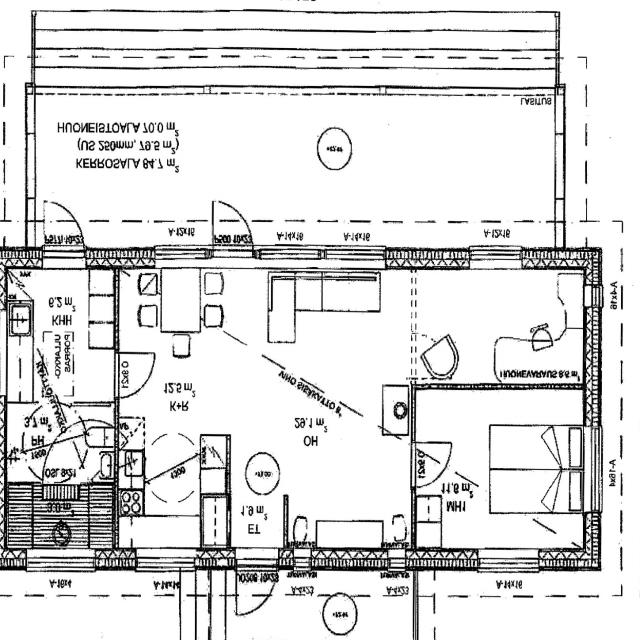door: (114, 352, 166, 398), (45, 210, 85, 269), (237, 548, 277, 607), (412, 442, 464, 487), (213, 210, 253, 268)
